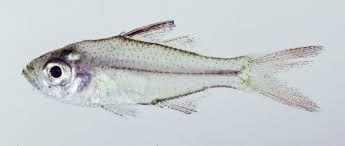Glass Perchlet: (22, 19, 326, 121)
